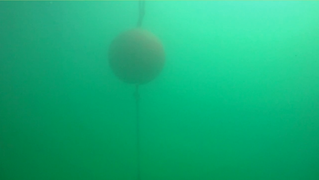buoy: (107, 28, 166, 84)
